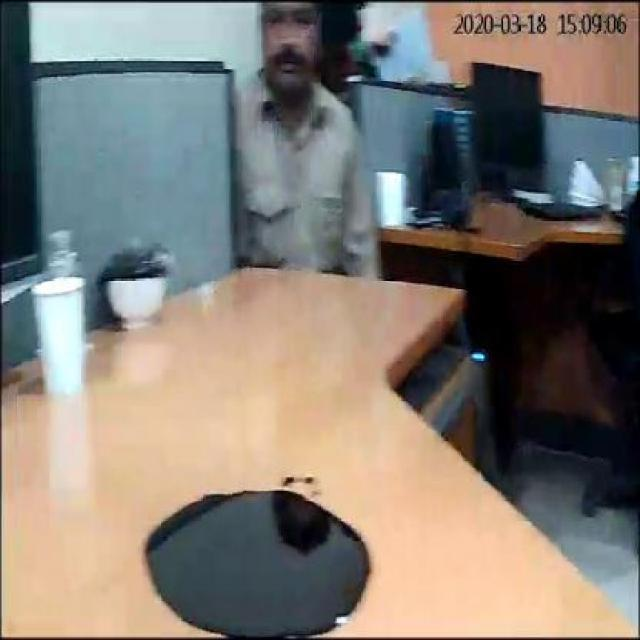spill: (147, 484, 376, 638)
